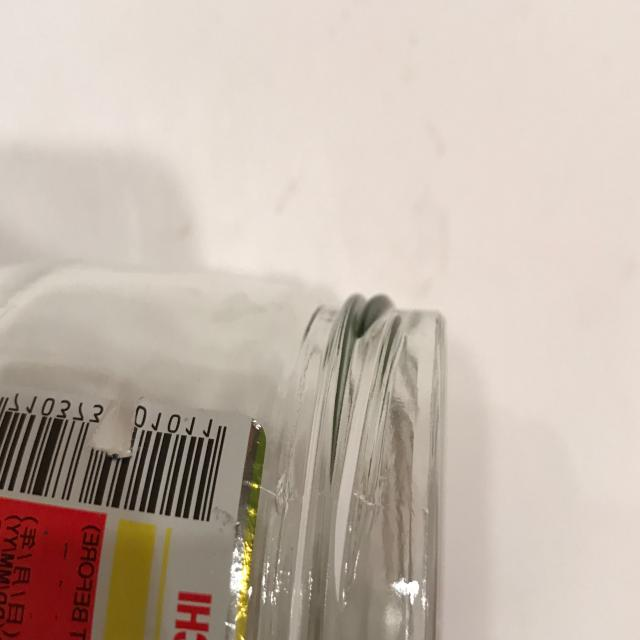glass: (0, 282, 453, 640)
